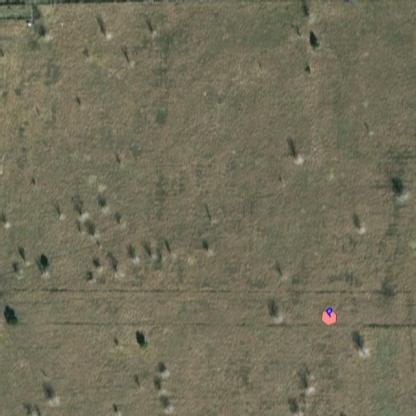P: (325, 306, 333, 319)
hexagon: (320, 310, 336, 326)
